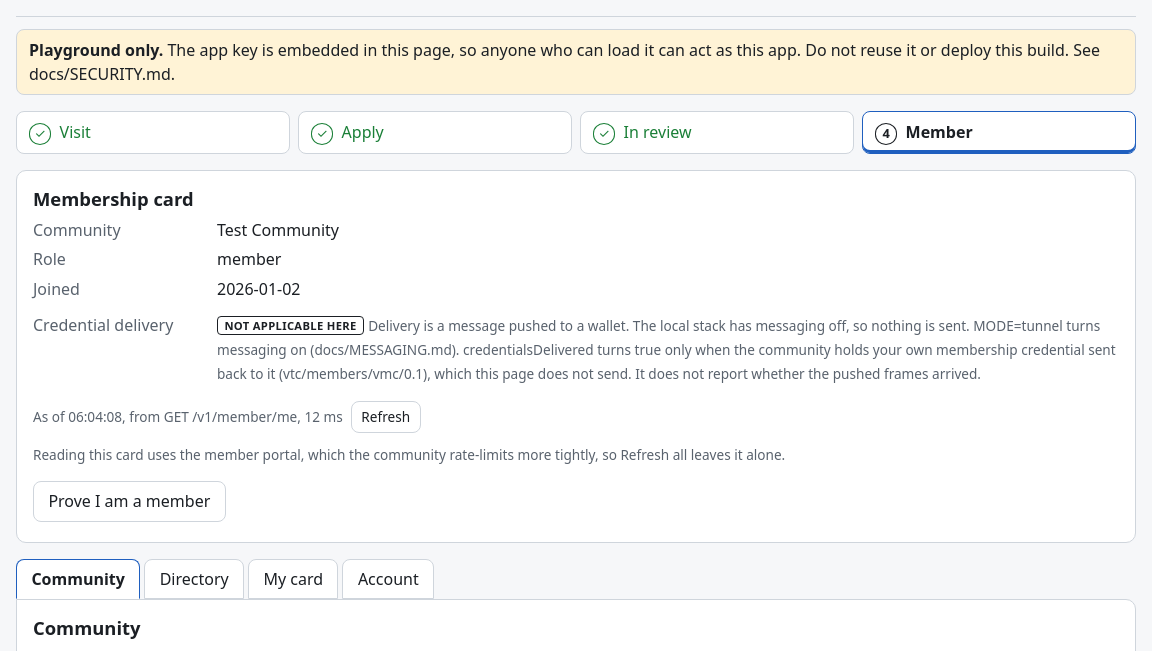
Scenario: member › an action refused by the community toasts the reason and re-reads, but a dead network does not re-read
Click the tab "Account" at coordinates (388, 579), box [342, 558, 434, 599]
(page scrolled)
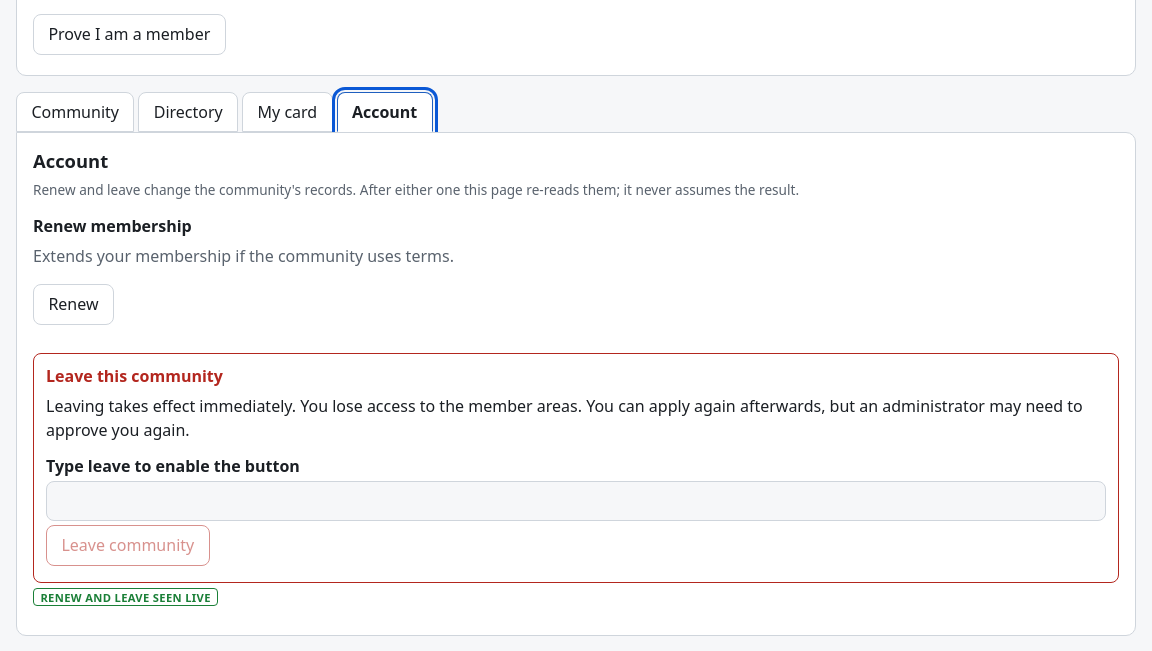
Click the button "Renew" at coordinates (73, 304), box [33, 284, 114, 325]
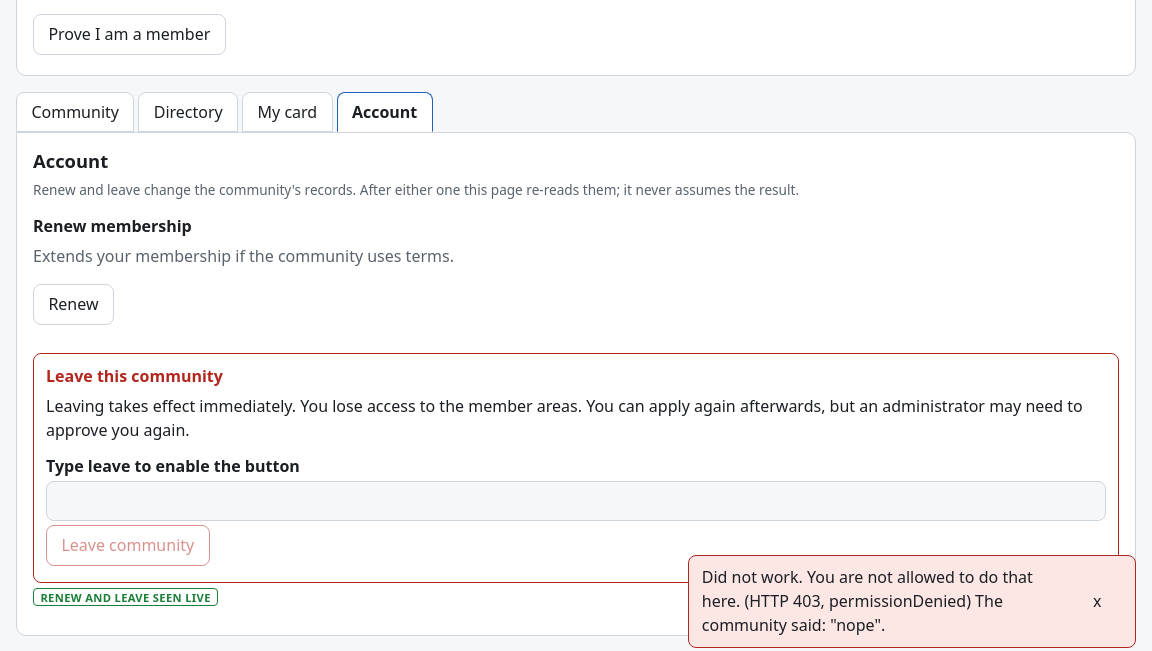
Click the button "Renew" at coordinates (73, 304), box [33, 284, 114, 325]
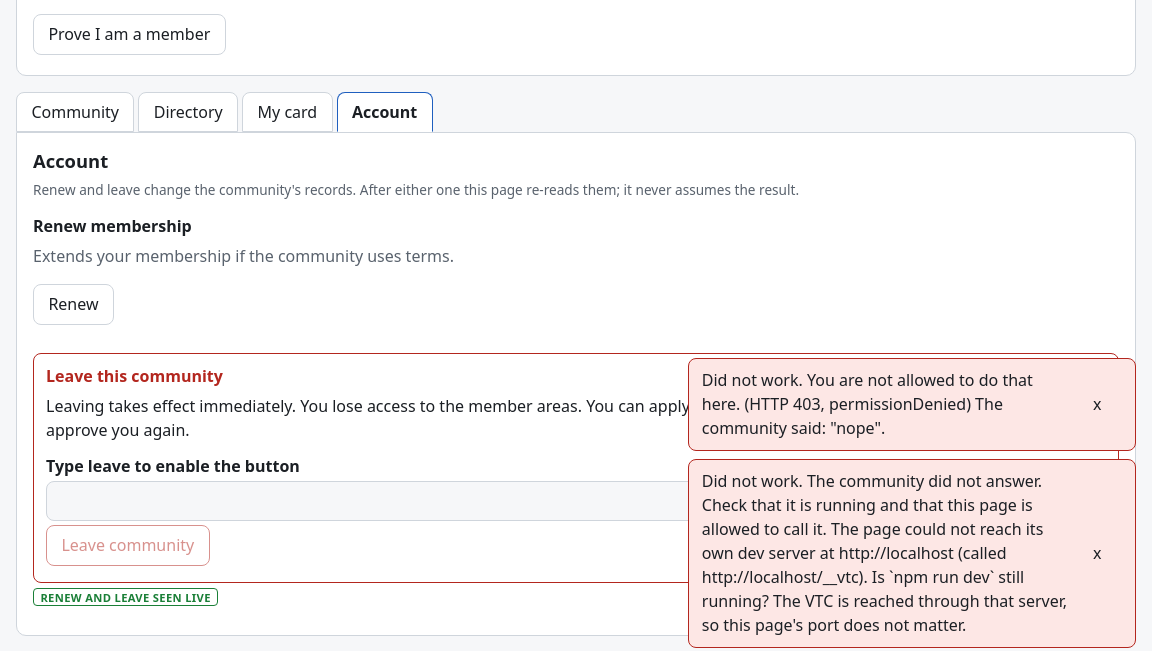
Now the message with class "toasts" shows "did not answer", box [702, 470, 1067, 636]
